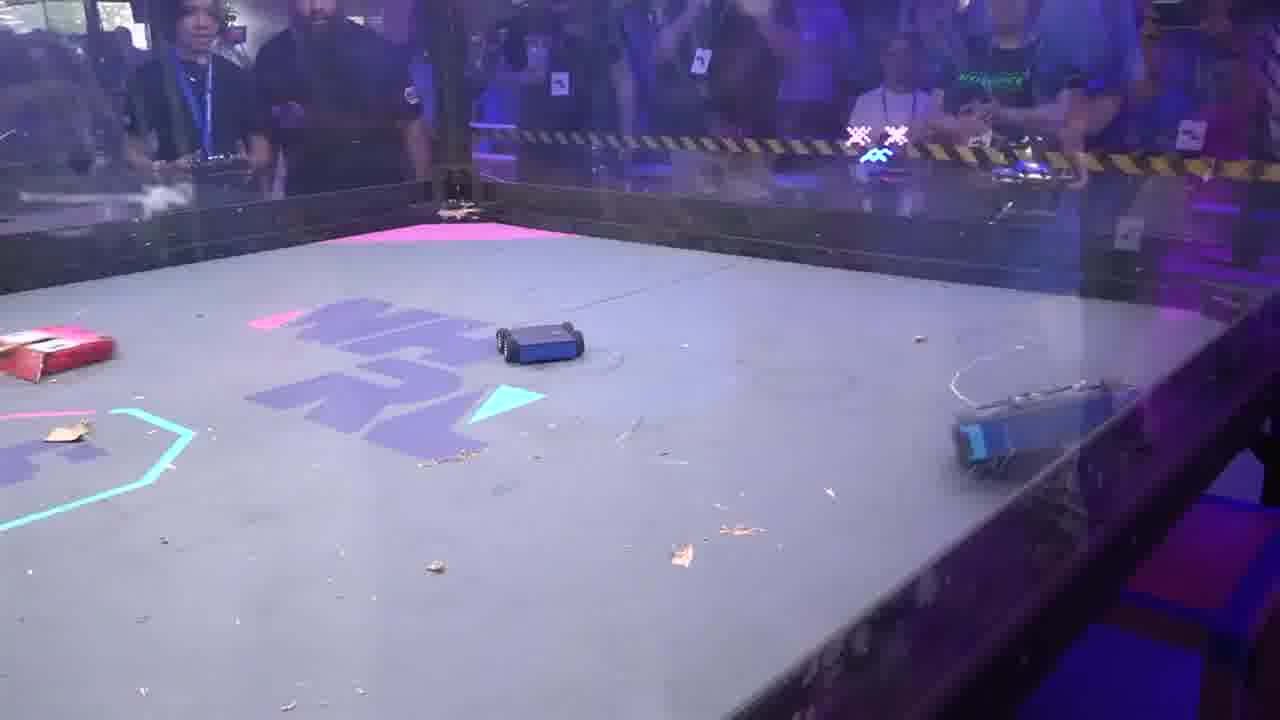combatbot: (951, 371, 1140, 484), (0, 324, 119, 383)
minibot: (492, 321, 590, 367)
